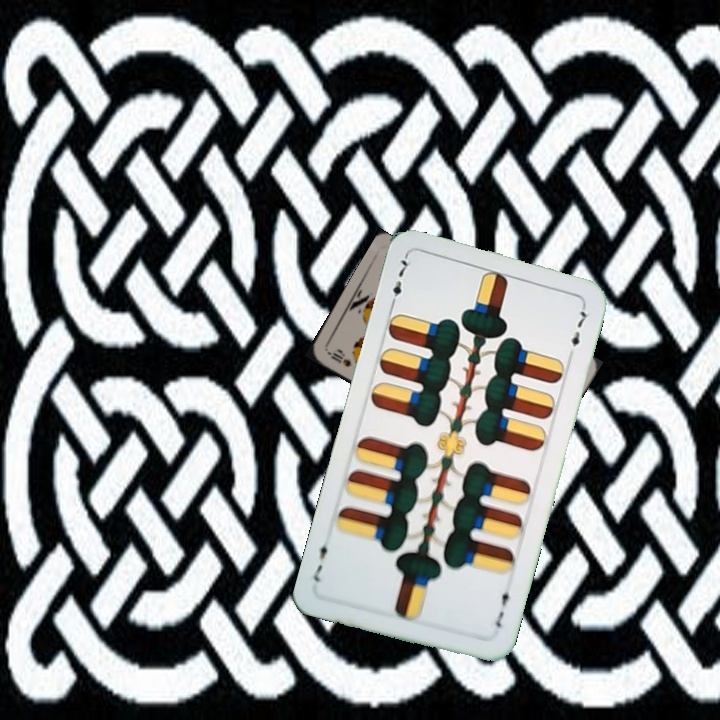E7: (386, 252, 412, 311), (491, 582, 514, 630)
S10: (323, 347, 355, 370)
